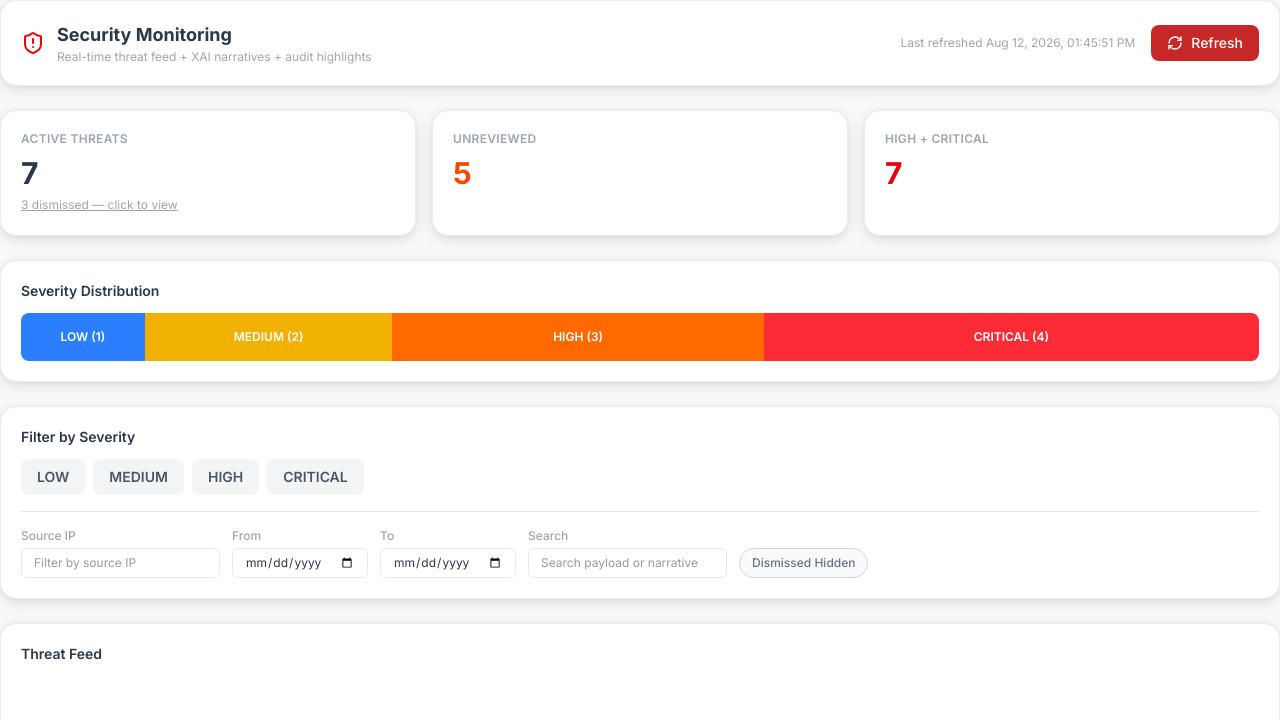
Test case: M8: Security Monitoring page › clicking "X dismissed" link in summary card toggles showDismissed on
Step 1. Click the button "3 dismissed — click to view" → {"x": 99, "y": 205}, box [21, 197, 178, 213]
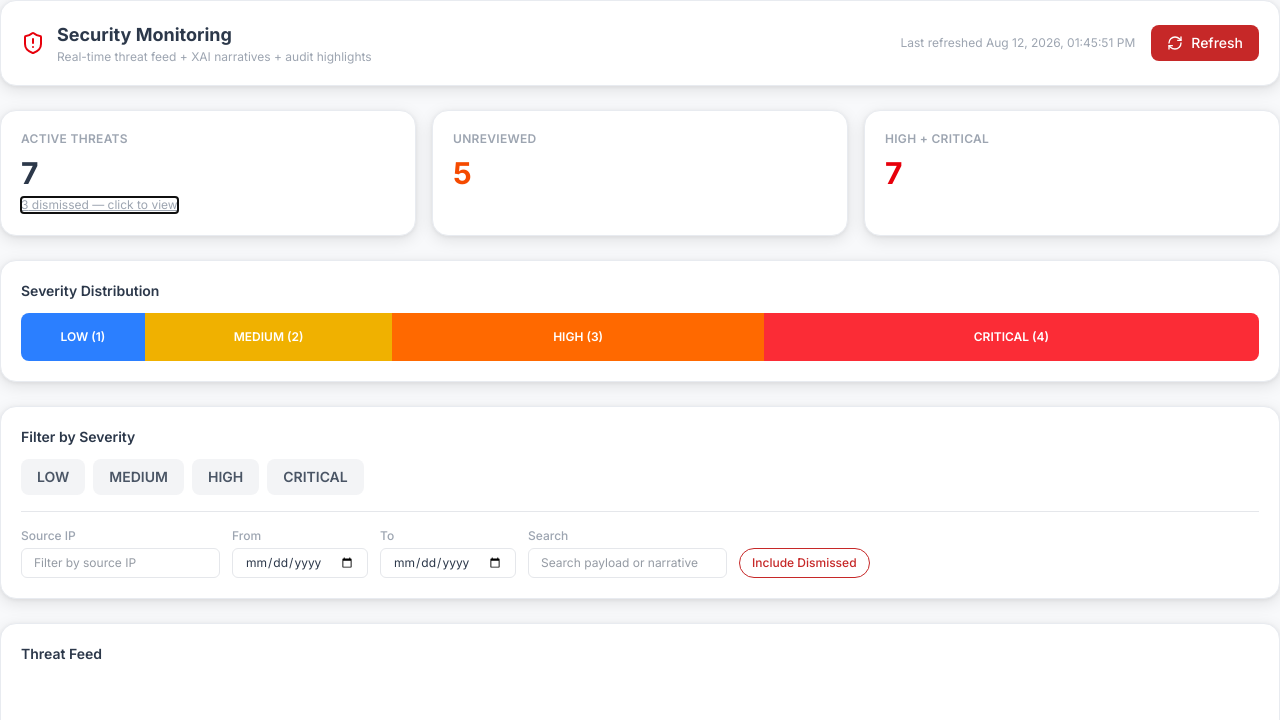
Expected: the button with test id "show-dismissed-toggle" reads "Include Dismissed", [739, 548, 870, 578]
